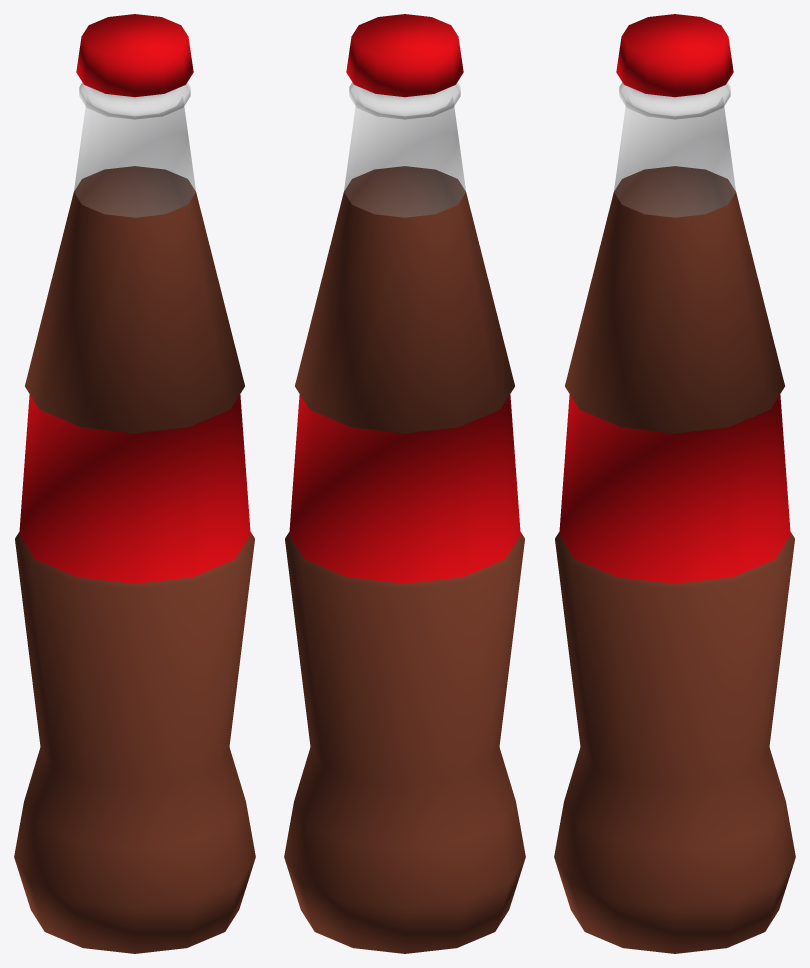
The model's file is coke.fbx.
3 views of the same model, side by side, from view 1: azimuth 30°, elevation 25°; view 2: azimuth 150°, elevation 25°; view 3: azimuth 270°, elevation 25° (orthographic).
Visible parts, largest first — view 1: coke; view 2: coke; view 3: coke.
Boxes of the visible parts, x1,y1,x2,y2 form: coke: [14, 14, 255, 953]; coke: [284, 14, 525, 953]; coke: [554, 14, 795, 953].
Bounding box in the file's own units: 18.56 × 73.97 × 18.56.
